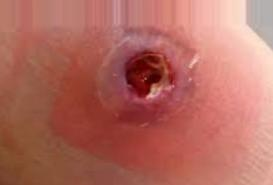Spider: (103, 29, 200, 120)
